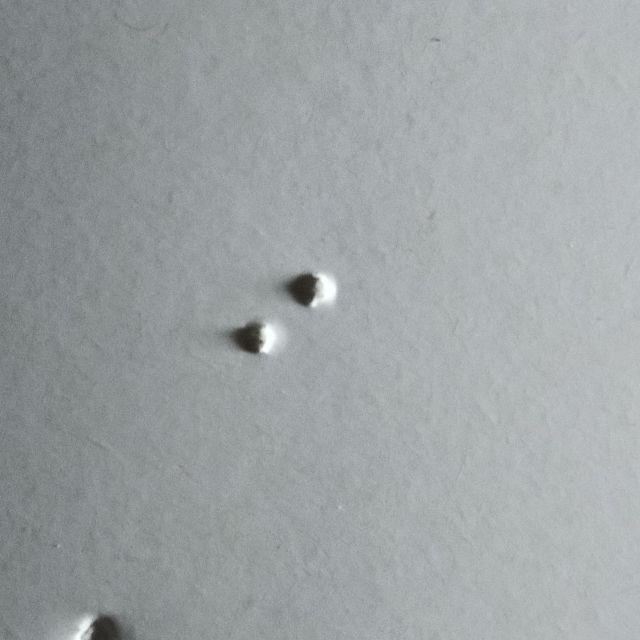ikaw: (236, 269, 337, 409)
